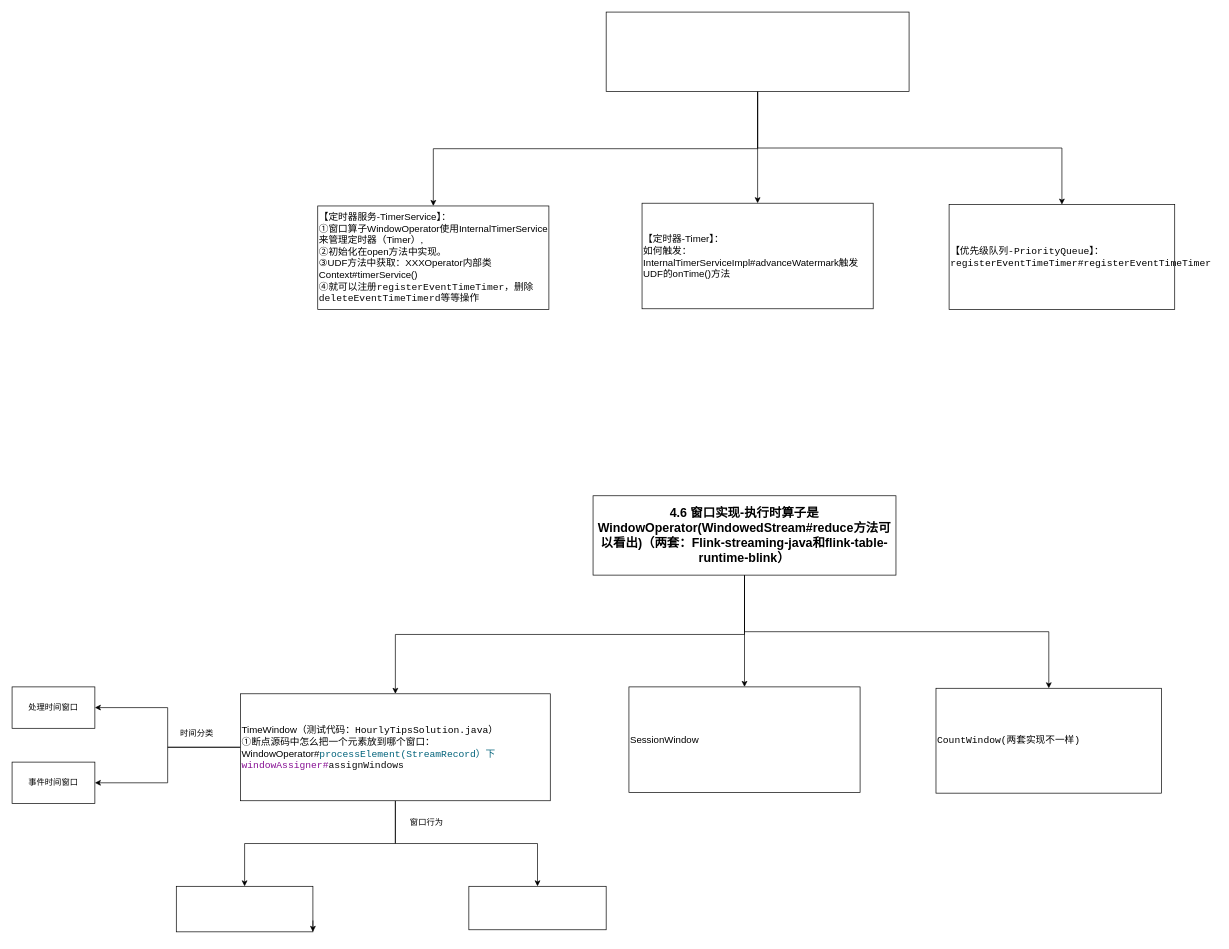
This 1229x949 diagram has some shape labels left out. The centre of each missing label's shape, as x and y in pixels:
4.5 时间服务- 参见：LongRidesSolution.java 如根据事件时间（驾驶时间）超过两小时就告警: point 757,51
滑动窗口（SlidingWindow） ①Offset、size和Slide: point 537,908
滚动窗口（TumblingWindow）: ①Offset和Size: point 244,909
